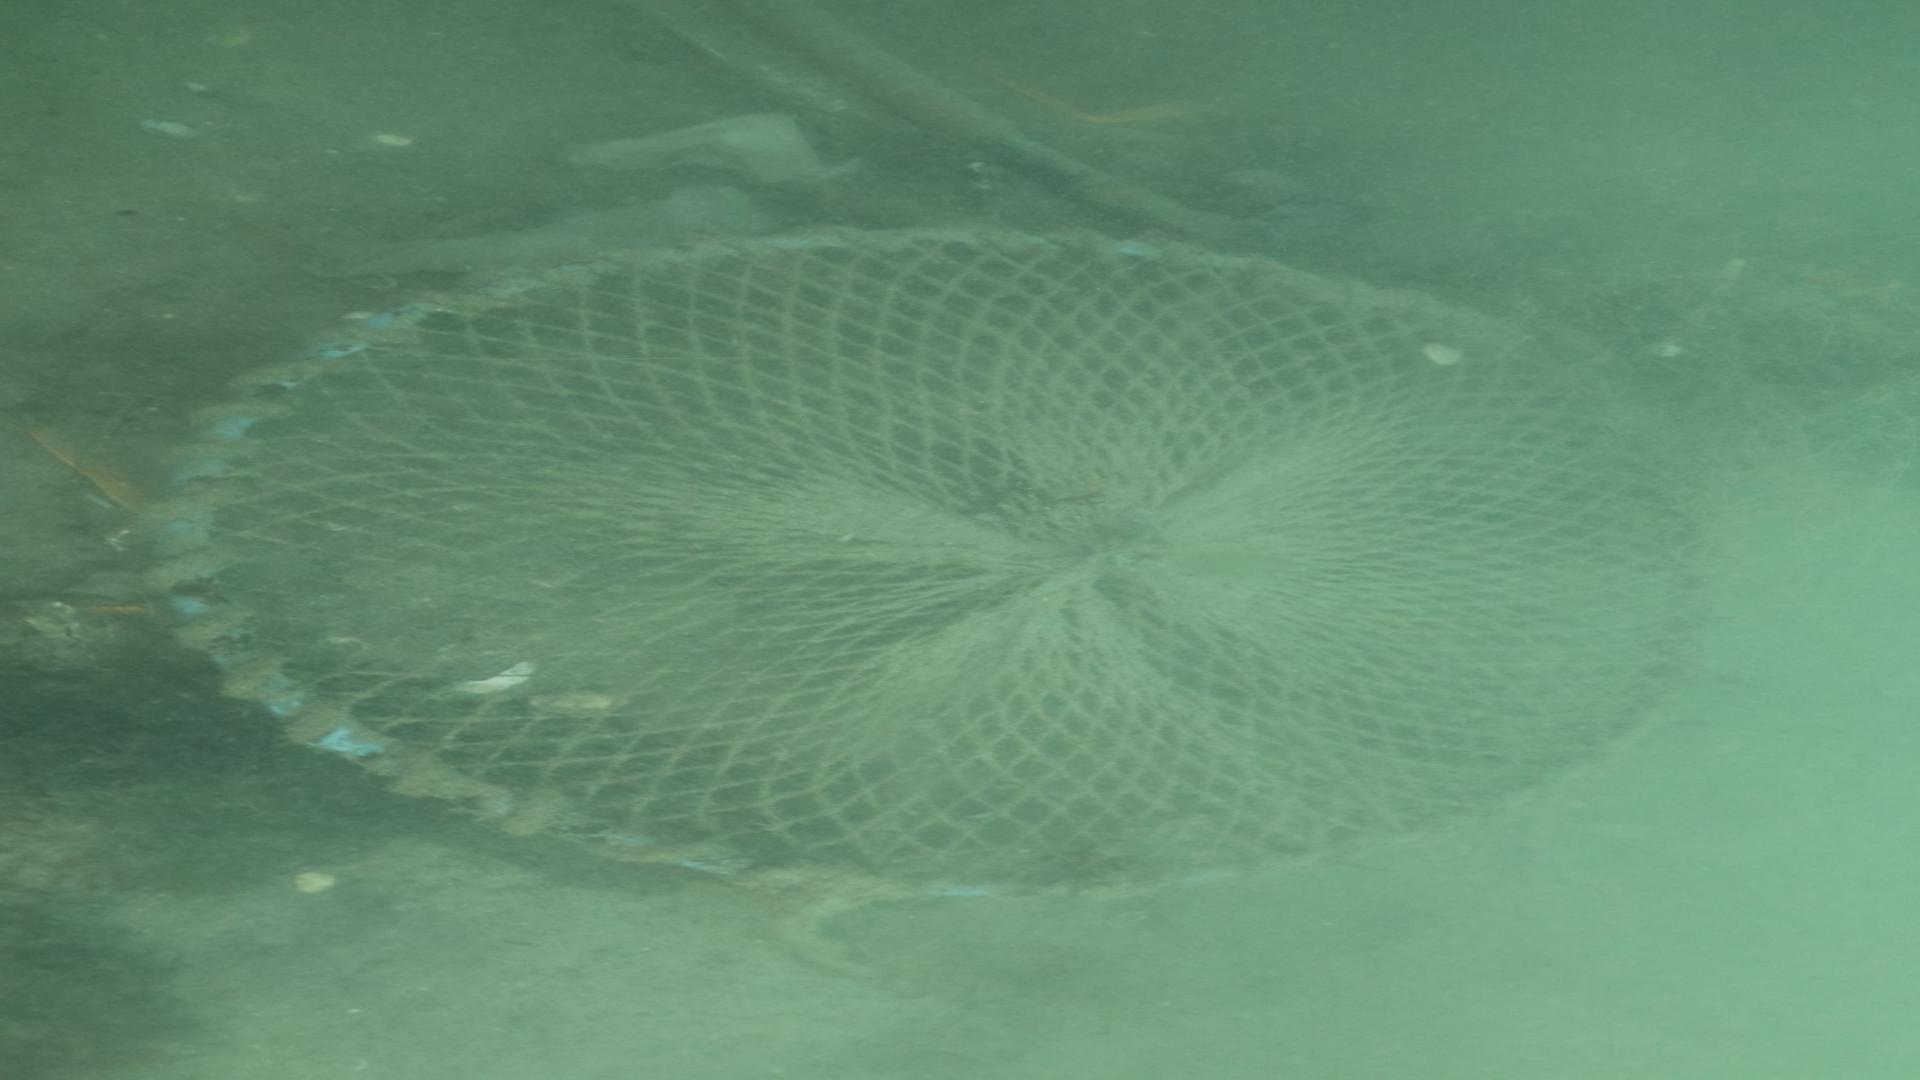circular fish trap: (156, 223, 1733, 914)
